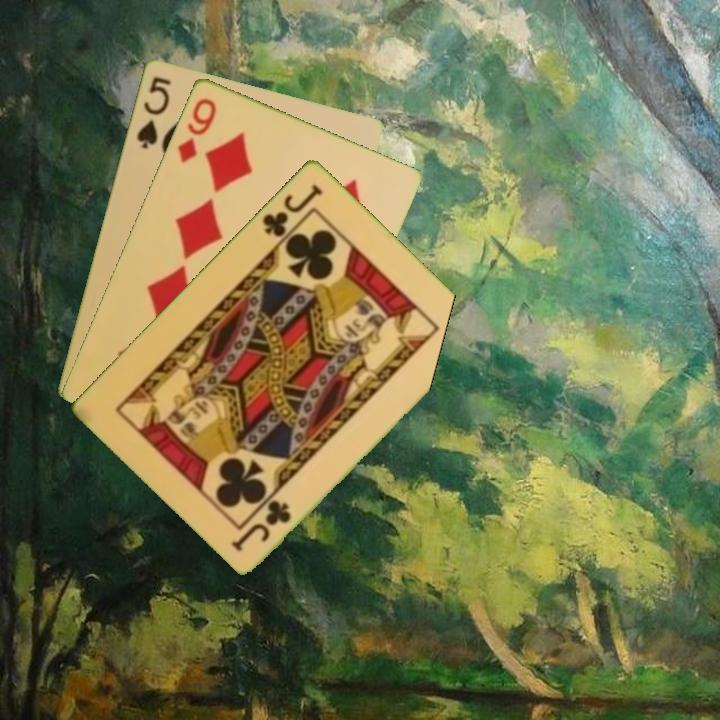5s: (132, 72, 173, 152)
9d: (173, 93, 220, 166)
Jc: (258, 180, 326, 240), (228, 495, 294, 554)
